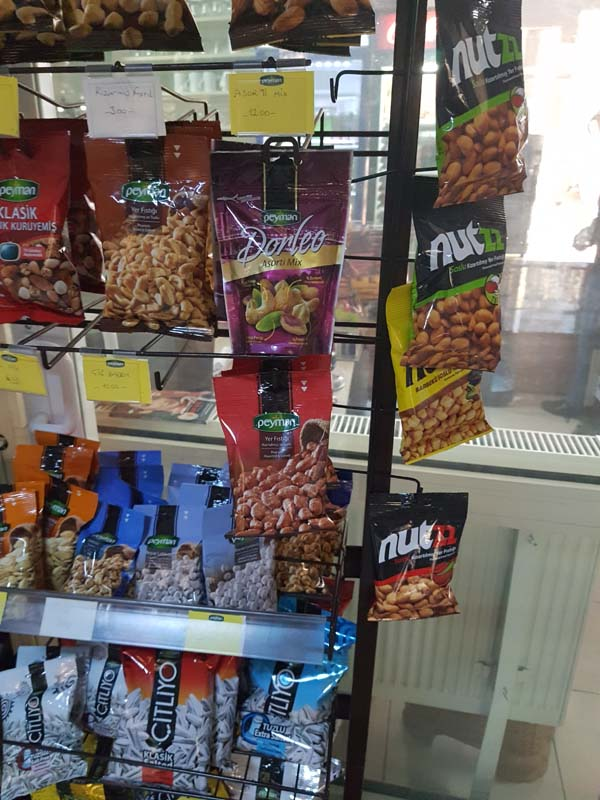citliyorklasik: (116, 647, 212, 793)
